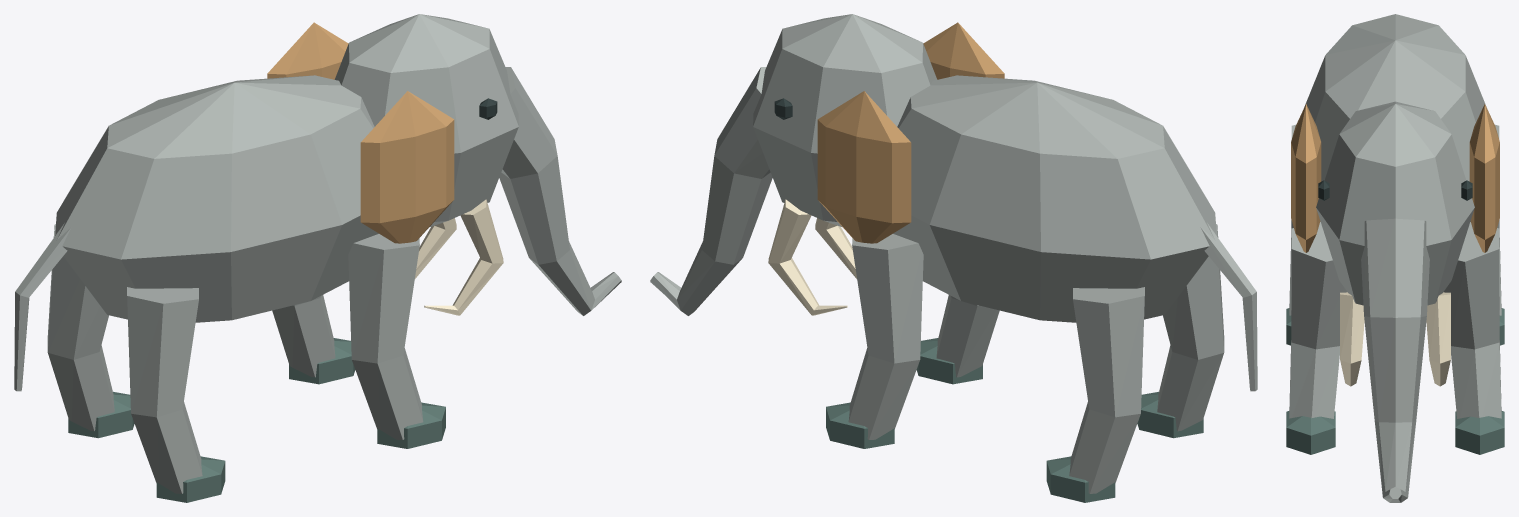
File: deinotherium.57f0192952d2.glb
3 views of the same model, side by side, from view 1: azimuth 30°, elevation 25°; view 2: azimuth 150°, elevation 25°; view 3: azimuth 270°, elevation 25° (orthographic). The views are drawn at different scales.
Visible parts, largest first — view 1: deinotherium; view 2: deinotherium; view 3: deinotherium.
Part boxes in pixels (<box>): deinotherium: <box>14,14,621,502</box>; deinotherium: <box>650,14,1257,502</box>; deinotherium: <box>1286,14,1504,502</box>.
Bounding box in the file's own units: 1 × 0.6109 × 0.3275.
